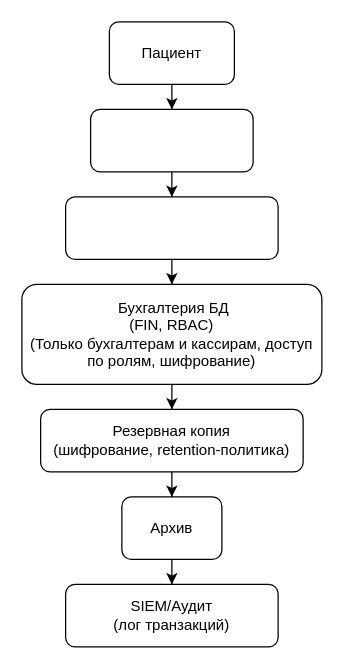
Image size: 344x669. Some labels were removed from this diagram. Each missing label, with the box of its shape:
Платёжная система, токенизация реквизитов: (64, 196, 278, 259)
Платёжный шлюз (TLS, SCA, DLP): (89, 108, 253, 172)
